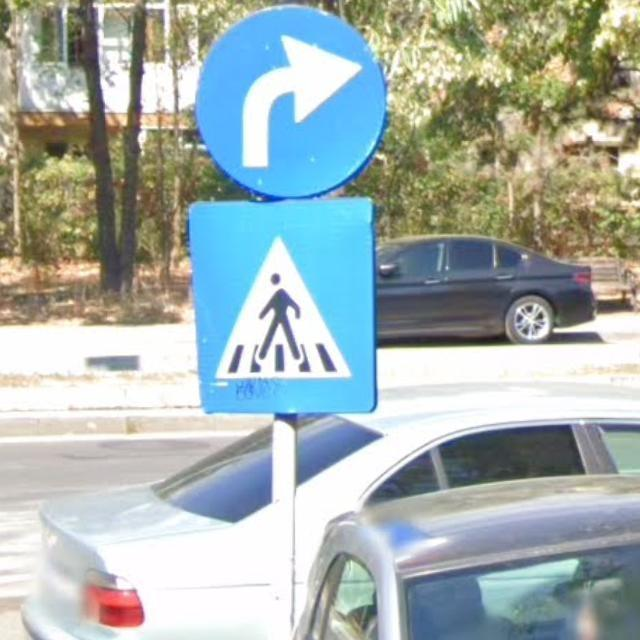info_crosswalk: (183, 202, 384, 416)
